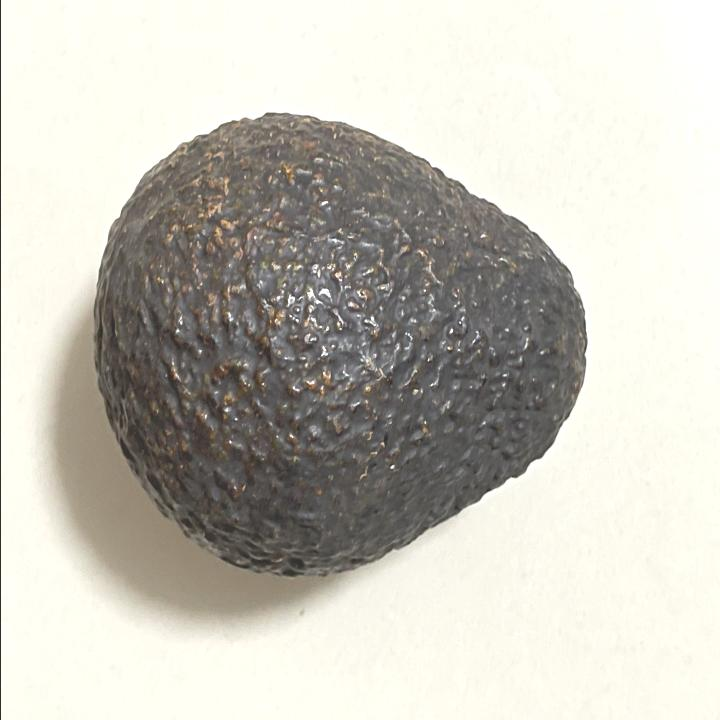Level2: (86, 104, 598, 586)
